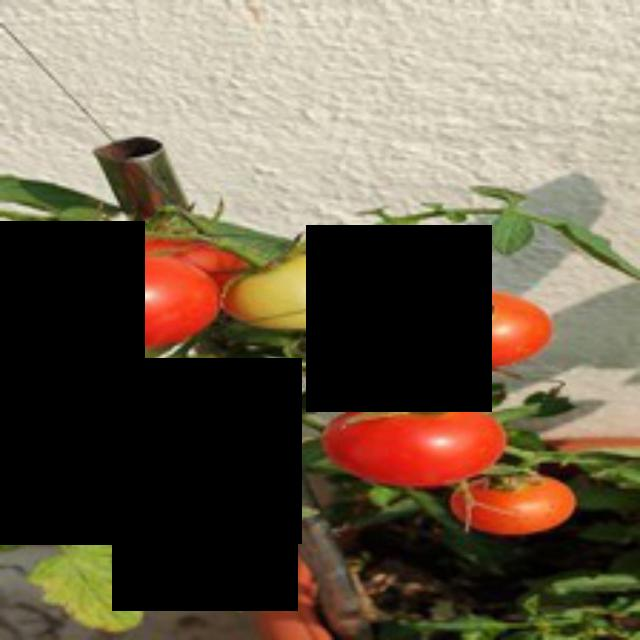tomato: (2, 250, 228, 363), (325, 403, 509, 502)
